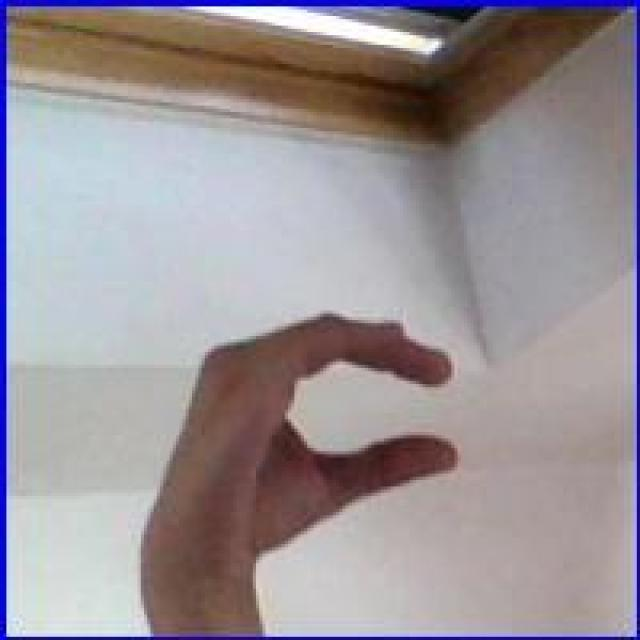C: (157, 308, 467, 550)
